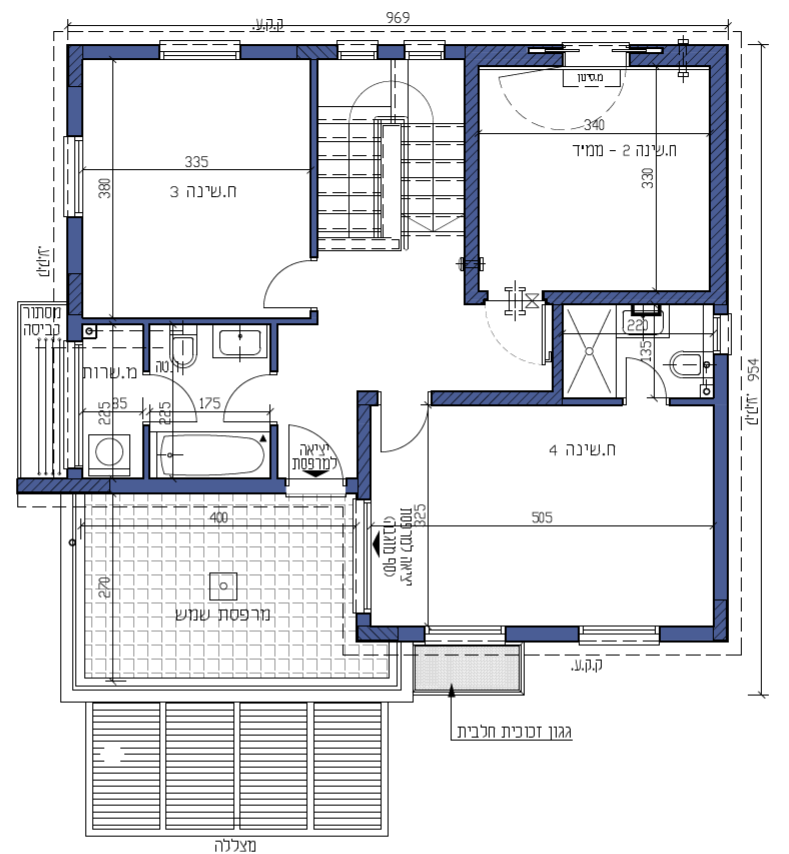wall: (712, 365, 728, 644), (464, 46, 478, 304), (710, 67, 725, 302), (110, 477, 286, 493)
